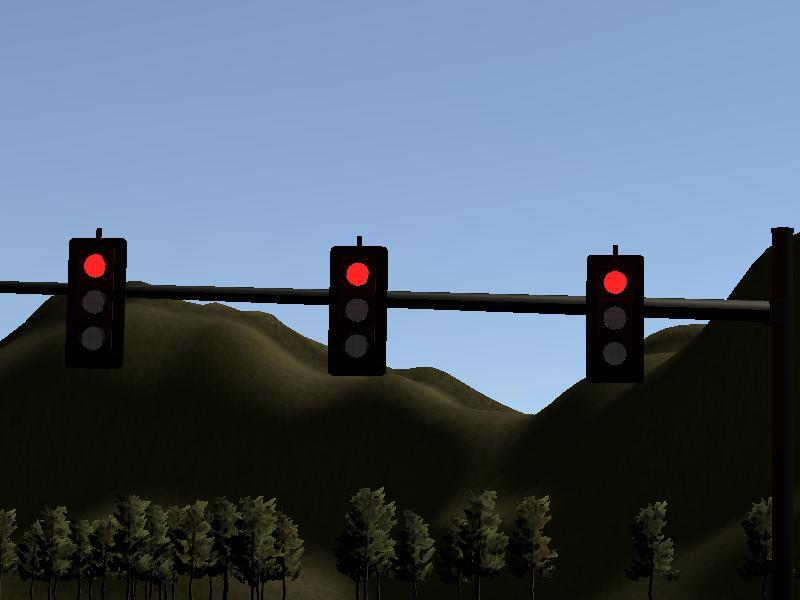Red: (584, 255, 643, 384), (328, 246, 387, 375), (67, 238, 126, 367)
